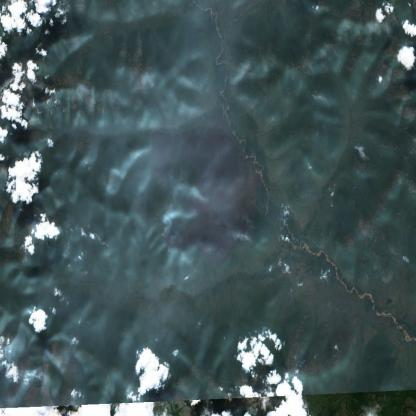fire: (239, 215, 258, 251), (160, 223, 178, 256), (160, 171, 170, 186)
